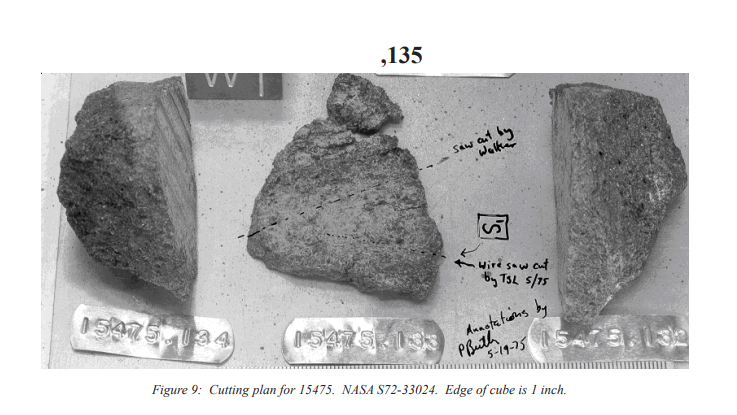Basalt: (39, 69, 212, 311), (251, 103, 445, 302), (543, 87, 680, 325)
